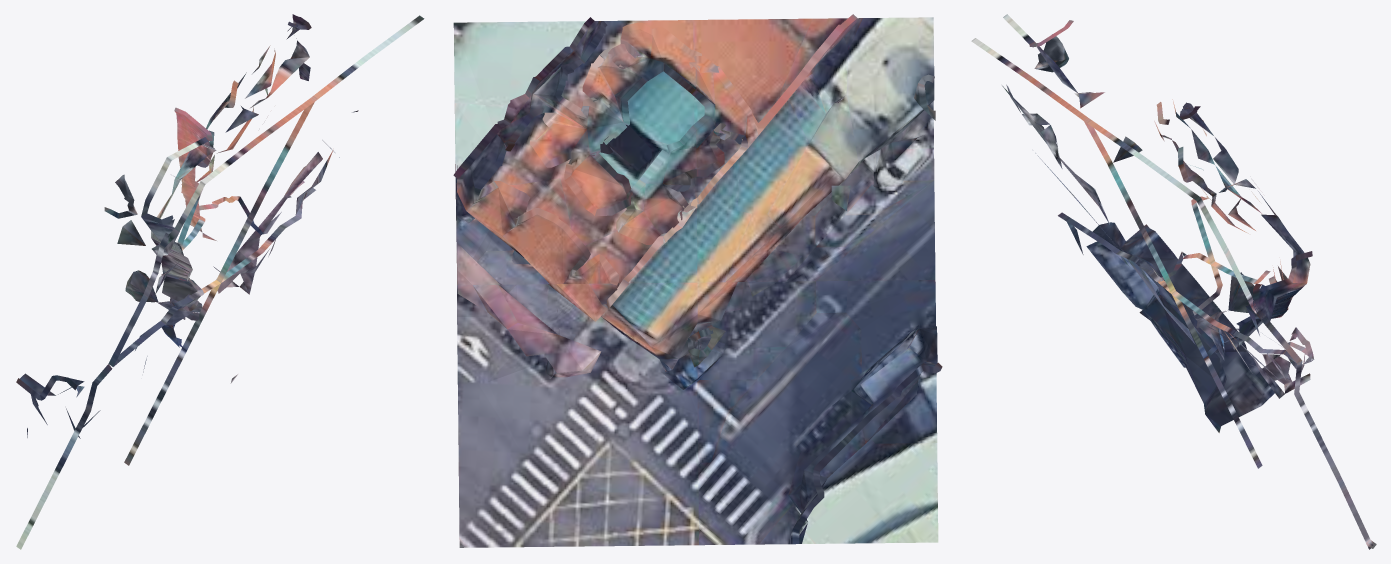
3 renders of one model, left to right at view 1: azimuth 30°, elevation 25°; view 2: azimuth 150°, elevation 25°; view 3: azimuth 270°, elevation 25°, orthographic. The views are drawn at different scales.
Size of the model in its own units: 38.57 by 37.57 by 32.19.
Materials: 2 (2 with a texture image).
